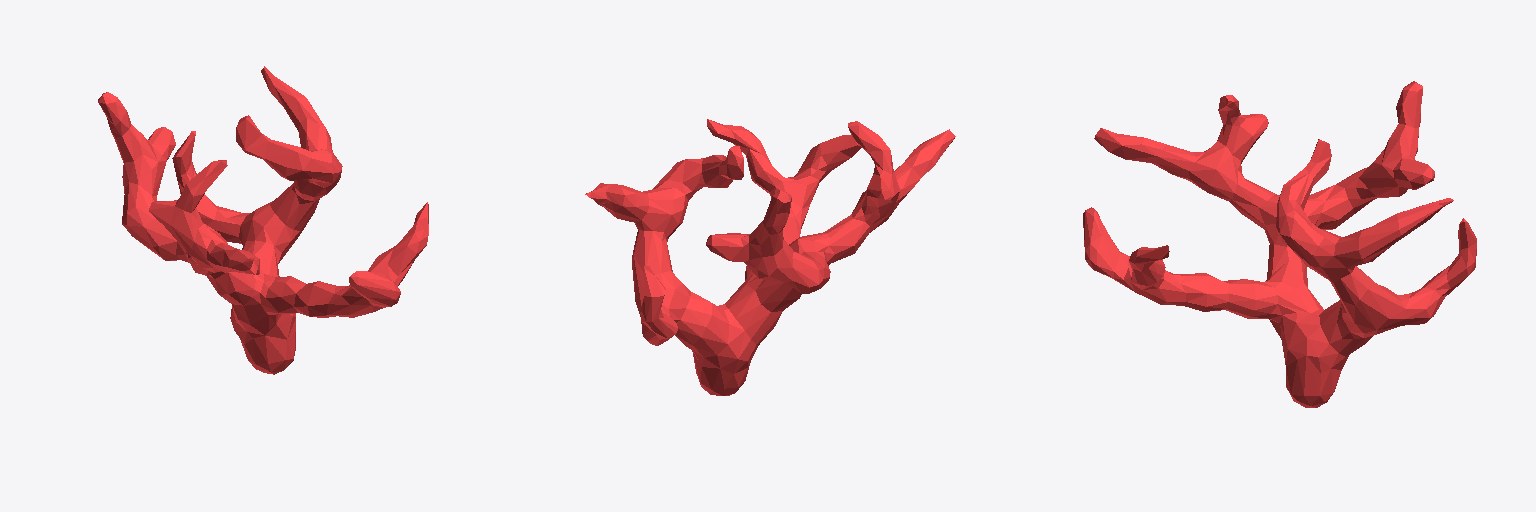
3 renders of one model, left to right at view 1: azimuth 30°, elevation 25°; view 2: azimuth 150°, elevation 25°; view 3: azimuth 270°, elevation 25°, orthographic.
Parts seen in each view (by area): view 1: Coral.001_CoralMesh.002; view 2: Coral.001_CoralMesh.002; view 3: Coral.001_CoralMesh.002.
Part boxes in pixels (bbox=[...]): Coral.001_CoralMesh.002: bbox=[98, 66, 428, 374]; Coral.001_CoralMesh.002: bbox=[585, 119, 955, 395]; Coral.001_CoralMesh.002: bbox=[1083, 81, 1476, 407].
Bounding box in the file's own units: 0.4608 × 0.5065 × 0.6741.
1 materials, 1 textured.